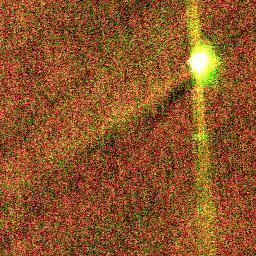Ship: (183, 43, 223, 84)
